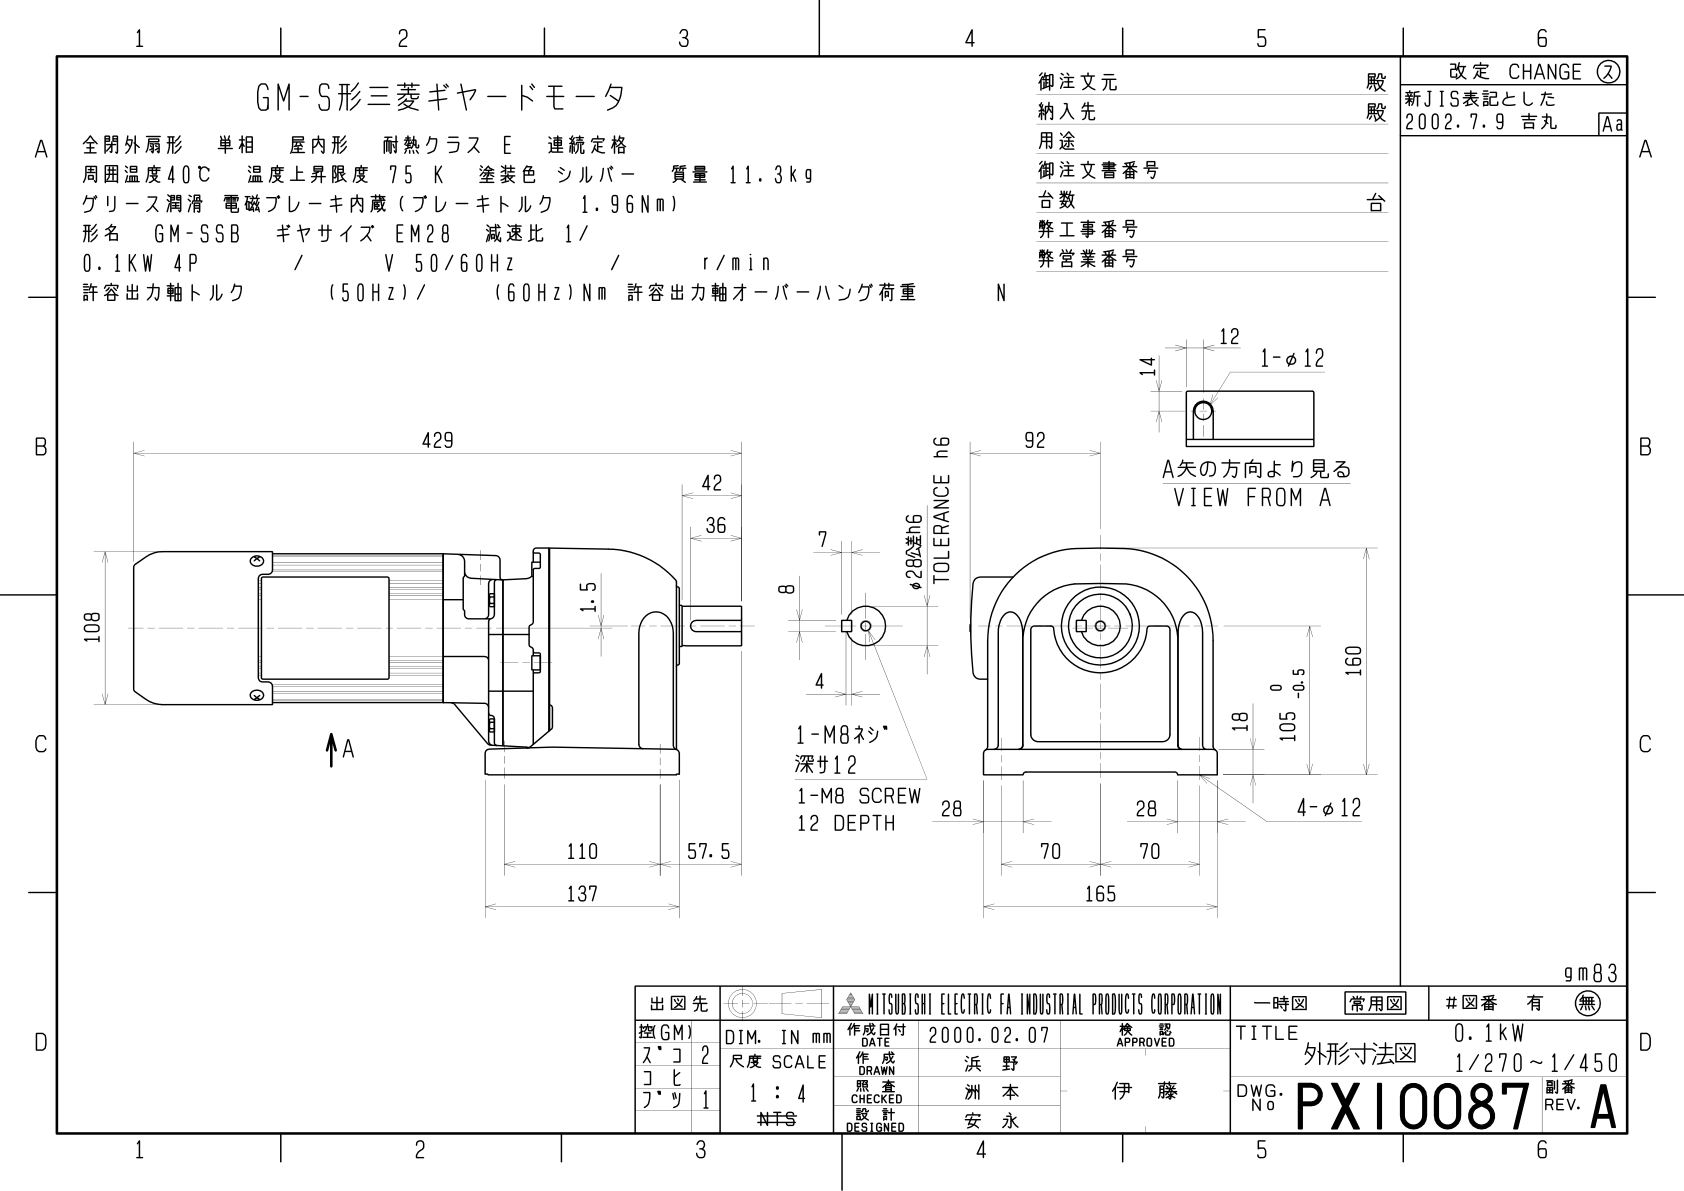GM_S_屋内＿三相_脚: (85, 315, 1386, 949)
